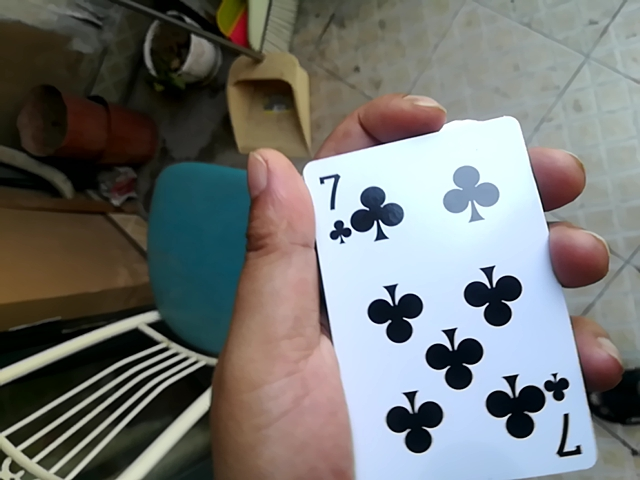mh 7: (296, 123, 597, 475)
